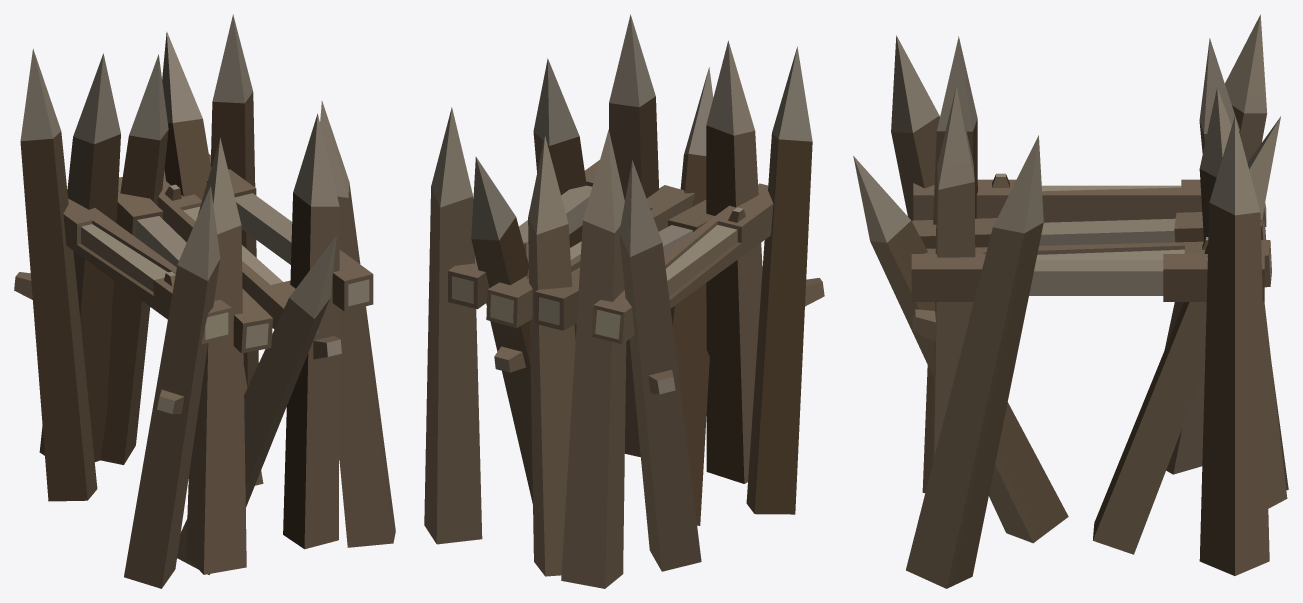
Rendered from Manmadeless_SF_Bld_Goblin_Wall_01.fbx.
3 views of the same model, side by side, from view 1: azimuth 30°, elevation 25°; view 2: azimuth 150°, elevation 25°; view 3: azimuth 270°, elevation 25° (orthographic). The views are drawn at different scales.
Visible parts, largest first — view 1: SF_Bld_Goblin_Wall_01; view 2: SF_Bld_Goblin_Wall_01; view 3: SF_Bld_Goblin_Wall_01.
Part boxes in pixels (bbox=[...]): SF_Bld_Goblin_Wall_01: bbox=[14, 14, 395, 588]; SF_Bld_Goblin_Wall_01: bbox=[424, 14, 824, 588]; SF_Bld_Goblin_Wall_01: bbox=[853, 14, 1288, 588].
Bounding box in the file's own units: 350 × 610 × 489.
